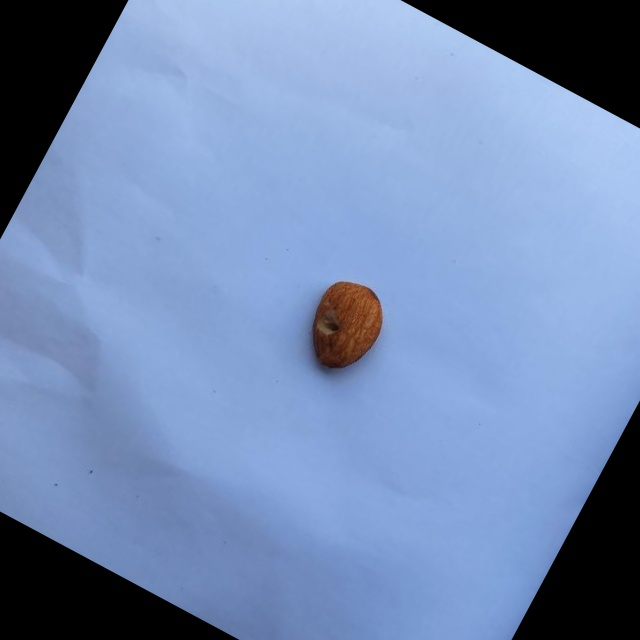grade3: (287, 265, 400, 387)
